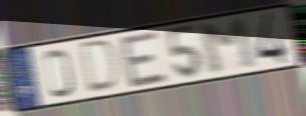0: (43, 48, 77, 100)
4: (254, 9, 291, 67)
5: (164, 22, 204, 82)
D: (80, 37, 122, 96)
E: (117, 28, 171, 91)
M: (197, 15, 260, 77)
